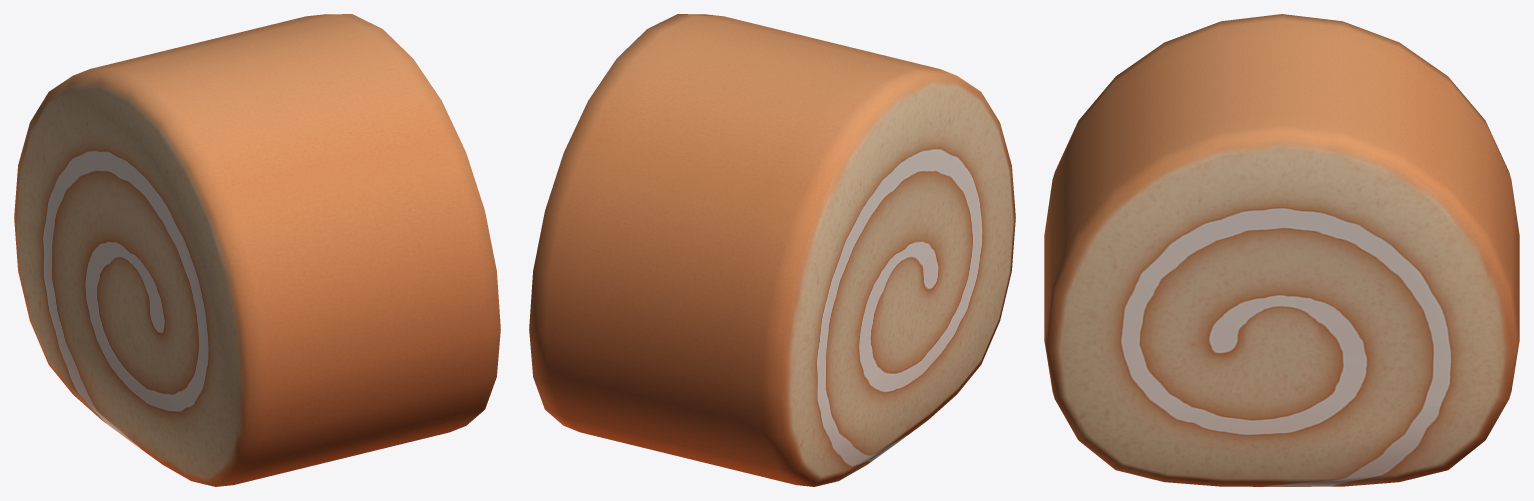
File: pastries1.fbx
3 views of the same model, side by side, from view 1: azimuth 30°, elevation 25°; view 2: azimuth 150°, elevation 25°; view 3: azimuth 270°, elevation 25° (orthographic).
Visible parts, largest first — view 1: pastries1; view 2: pastries1; view 3: pastries1.
Boxes of the visible parts, x1,y1,x2,y2 form: pastries1: (14,14,500,486); pastries1: (529,14,1015,486); pastries1: (1044,14,1519,486).
Bounding box in the file's own units: 4272 × 5633 × 6822.
Materials: 1 (1 with a texture image).
